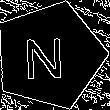N_N: (28, 29, 72, 82)
